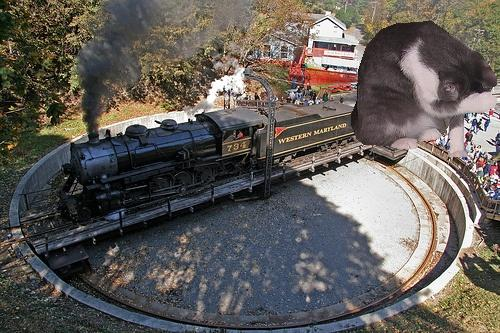tampered: (352, 21, 497, 157)
